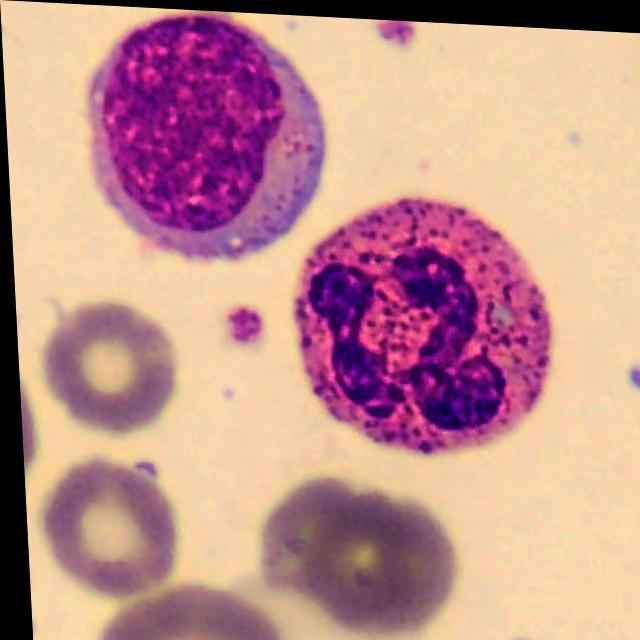Linfocito: (87, 13, 326, 259)
Neutrofilo segmentado: (289, 193, 547, 453)
